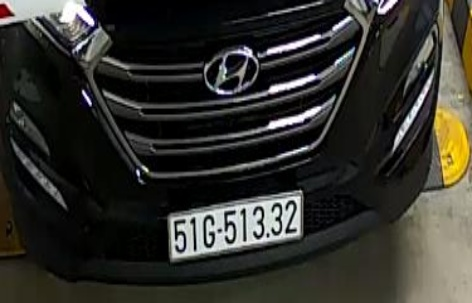plate: (156, 188, 312, 266)
